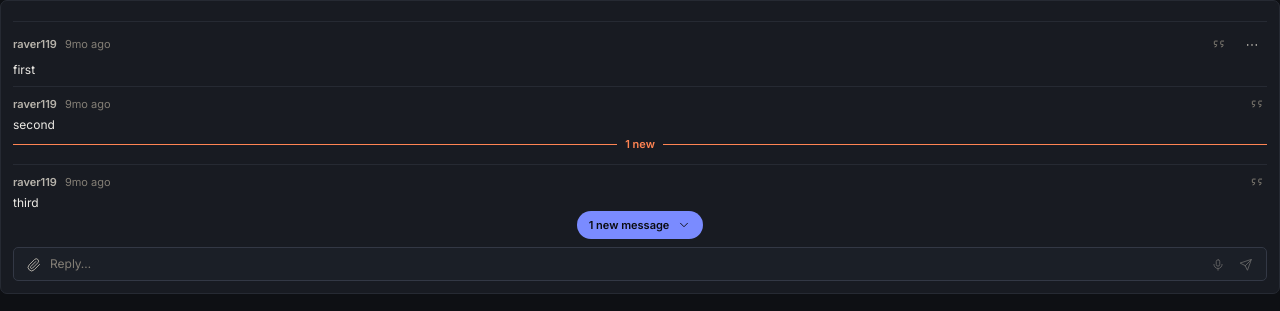
scroll-follow and the unread indicator › CVP-FR-TWRL: activating the indicator goes to the first unread message and clears the state
The width and height of the screenshot is (1280, 311).
(page scrolled)
Click the button with test id "discussion-unread-indicator".
click(640, 225)  # box [577,211,703,239]
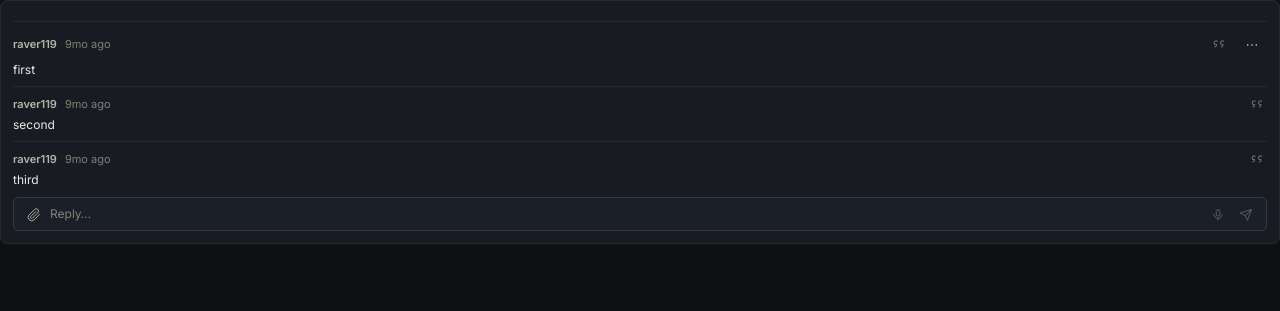
Now the button with test id "discussion-unread-indicator" is gone
